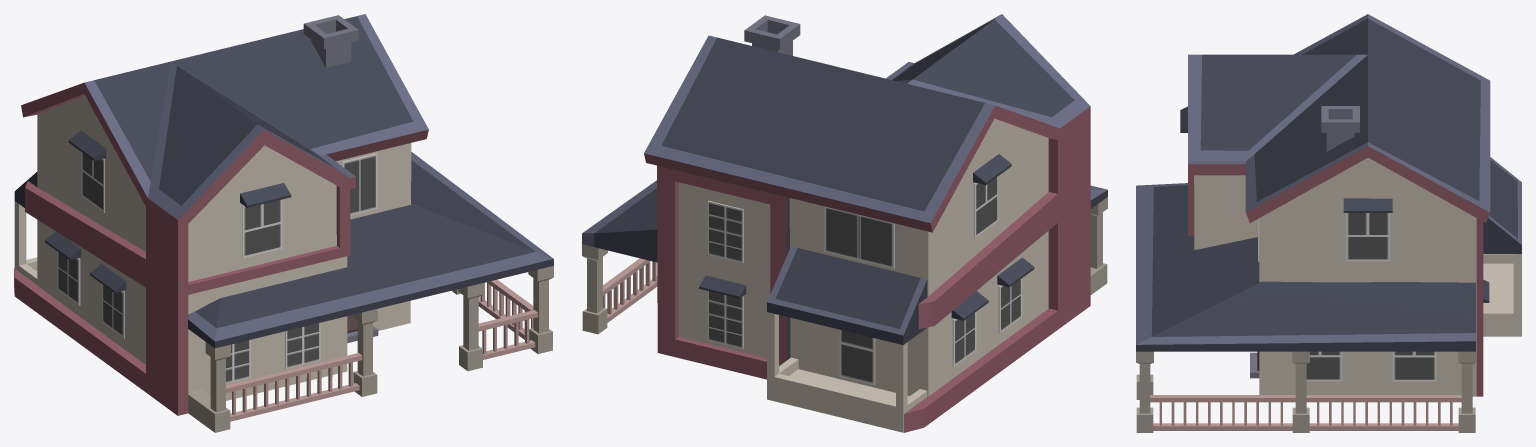
The model's file is house03_color03.fbx.
The picture shows the model from 3 angles, left to right: view 1: azimuth 30°, elevation 25°; view 2: azimuth 150°, elevation 25°; view 3: azimuth 270°, elevation 25°; orthographic projection. The views are drawn at different scales.
Visible parts, largest first — view 1: house03_color03; view 2: house03_color03; view 3: house03_color03.
Boxes of the visible parts, x1,y1,x2,y2 form: house03_color03: (14,14,553,432); house03_color03: (582,14,1107,432); house03_color03: (1136,14,1521,432).
Size of the model in its own units: 1233 by 916 by 1212.
